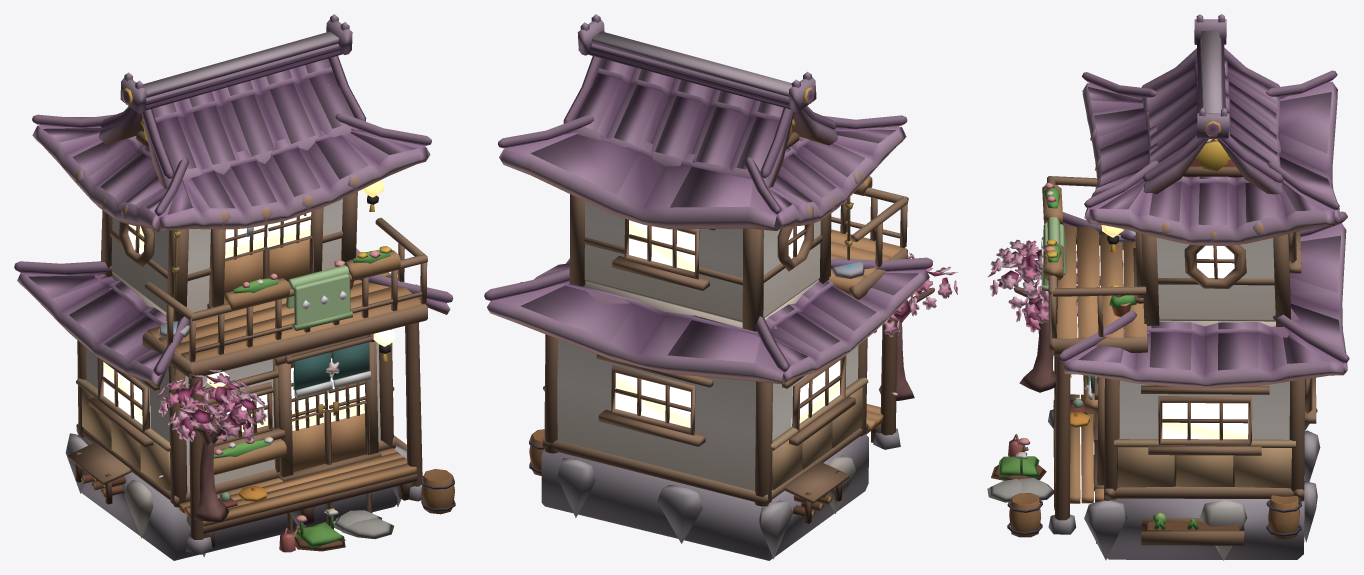
The model's file is home-3-v3.glb.
The picture shows the model from 3 angles, left to right: view 1: azimuth 30°, elevation 25°; view 2: azimuth 150°, elevation 25°; view 3: azimuth 270°, elevation 25°; orthographic projection.
Visible parts, largest first — view 1: home-3-v3, window_glow; view 2: home-3-v3, window_glow; view 3: home-3-v3, window_glow.
Part boxes in pixels (bbox=[...]): home-3-v3: bbox=[14, 14, 455, 560]; window_glow: bbox=[103, 180, 395, 432]; home-3-v3: bbox=[484, 14, 957, 560]; window_glow: bbox=[615, 220, 840, 427]; home-3-v3: bbox=[987, 14, 1349, 560]; window_glow: bbox=[1076, 225, 1248, 439].
Size of the model in its own units: 3.26 by 4.65 by 3.39.
